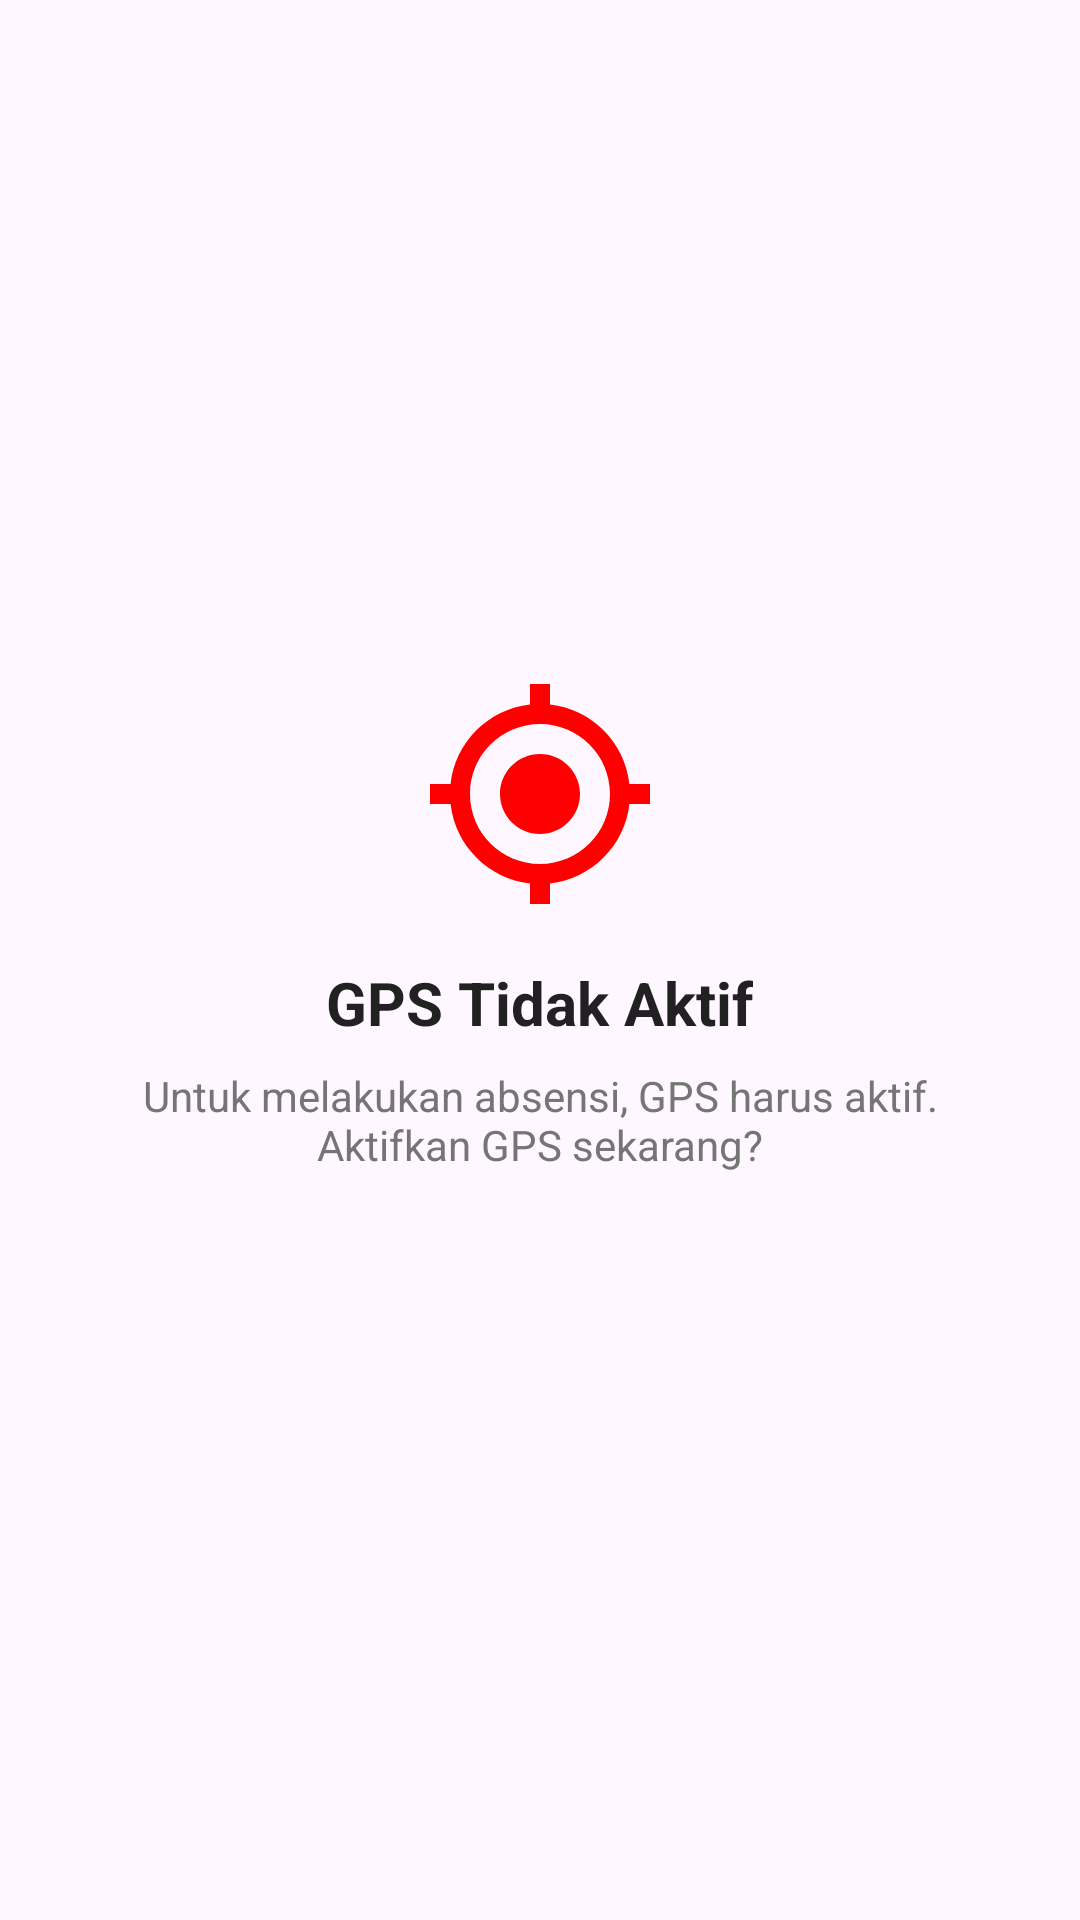

Named icons in this screenshot (1080*1920) and their centers, [x,y]:
gps off: [540,794]
